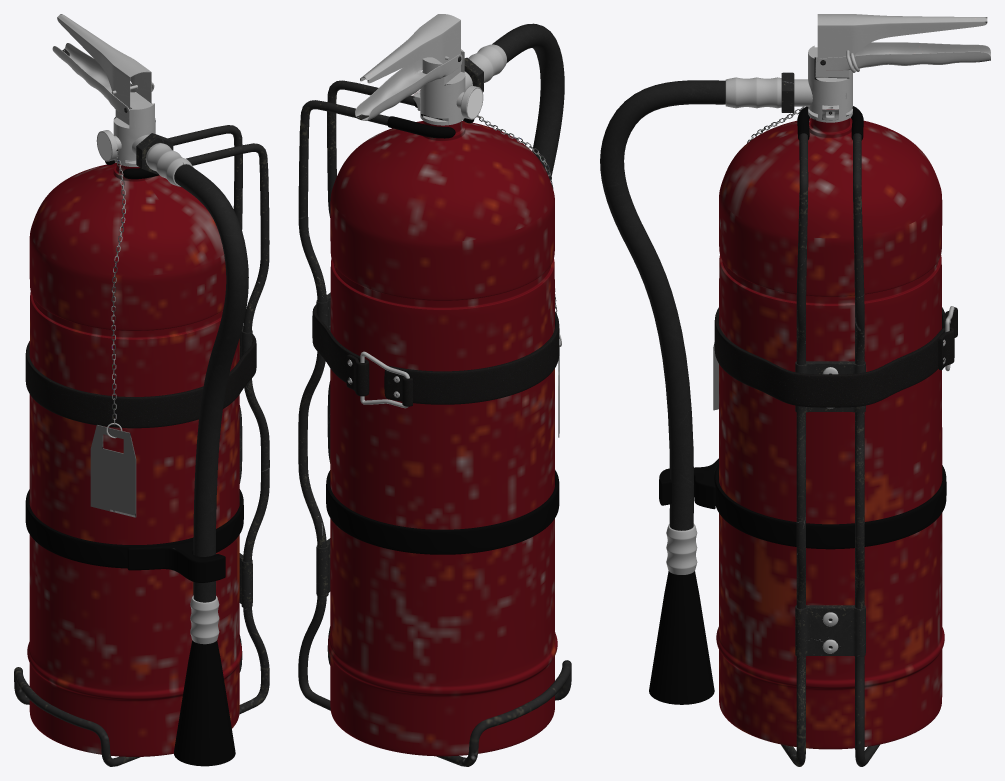
File: fire_extinguisher.glb
3 views of the same model, side by side, from view 1: azimuth 30°, elevation 25°; view 2: azimuth 150°, elevation 25°; view 3: azimuth 270°, elevation 25° (orthographic). The views are drawn at different scales.
Visible parts, largest first — view 1: The balloon_Baked, hose_Baked, cylinder holder_Baked, leather belt_Baked, The bell_Baked, mounting ring_Baked, label_Baked, lever_Baked, mounting hook_Baked, the nozzle_Baked, the handle_Baked, metal base 02_Baked (+4 smaller); view 2: The balloon_Baked, cylinder holder_Baked, leather belt_Baked, mounting ring_Baked, hose_Baked, lever_Baked, the nozzle_Baked, the handle_Baked, details 01_Baked, metal base 01_Baked, fasteners 01_Baked, leather belt 01_Baked (+1 smaller); view 3: The balloon_Baked, hose_Baked, cylinder holder_Baked, leather belt_Baked, The bell_Baked, mounting ring_Baked, lever_Baked, the handle_Baked, fasteners 01_Baked, the nozzle_Baked, metal base 01_Baked, metal base 02_Baked (+3 smaller).
Part boxes in pixels (x1,y1,x2,y2): The balloon_Baked: (27, 163, 242, 756); hose_Baked: (174, 164, 248, 602); cylinder holder_Baked: (14, 125, 269, 766); leather belt_Baked: (25, 334, 256, 428); The bell_Baked: (174, 640, 235, 766); mounting ring_Baked: (25, 489, 243, 568); label_Baked: (90, 425, 136, 517); lever_Baked: (57, 14, 151, 109); mounting hook_Baked: (127, 540, 225, 582); the nozzle_Baked: (113, 92, 155, 166); the handle_Baked: (52, 43, 152, 118); metal base 02_Baked: (190, 595, 219, 644); The balloon_Baked: (328, 121, 557, 756); cylinder holder_Baked: (298, 80, 571, 766); leather belt_Baked: (312, 304, 559, 404); mounting ring_Baked: (326, 470, 559, 554); hose_Baked: (492, 23, 564, 179); lever_Baked: (360, 14, 460, 83); the nozzle_Baked: (420, 49, 472, 125); the handle_Baked: (355, 54, 462, 120); details 01_Baked: (387, 101, 474, 138); metal base 01_Baked: (468, 44, 506, 82); fasteners 01_Baked: (316, 538, 330, 597); leather belt 01_Baked: (385, 370, 412, 406); The balloon_Baked: (716, 118, 944, 749); hose_Baked: (600, 80, 725, 530); cylinder holder_Baked: (781, 133, 880, 766); leather belt_Baked: (714, 307, 954, 407); The bell_Baked: (649, 571, 714, 704); mounting ring_Baked: (714, 465, 946, 549); lever_Baked: (817, 14, 987, 59); the handle_Baked: (816, 42, 990, 70); fasteners 01_Baked: (795, 605, 865, 656); the nozzle_Baked: (794, 45, 852, 122); metal base 01_Baked: (725, 77, 781, 108); metal base 02_Baked: (666, 523, 697, 574).
Size of the model in its own units: 11.99 by 34.17 by 17.42.
1 material, 1 textured.
